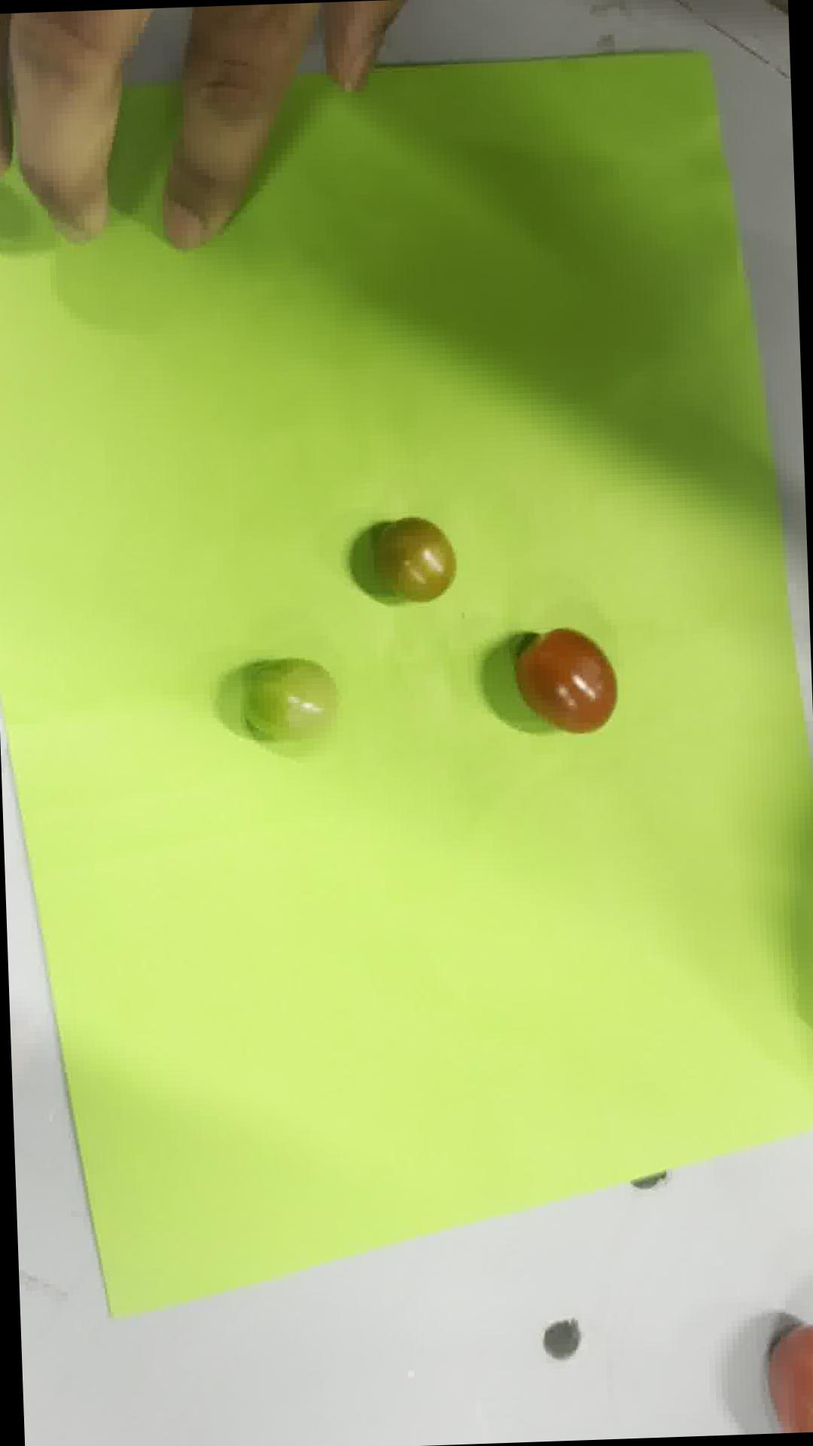green_cherry_tomato: (243, 658, 336, 739)
red_cherry_tomato: (515, 628, 617, 733)
yellow_cherry_tomato: (375, 517, 456, 601)
